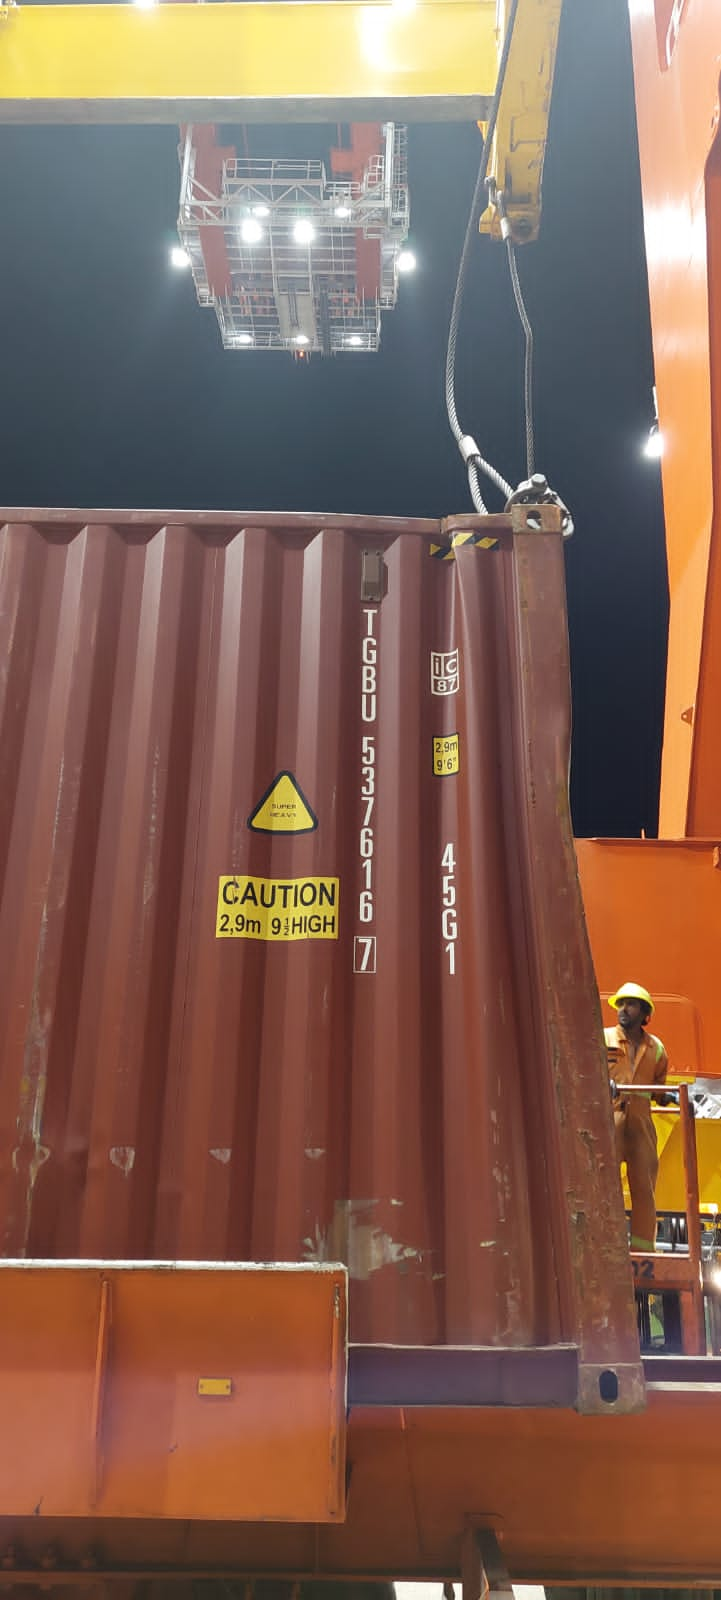bulged: (405, 520, 582, 952)
